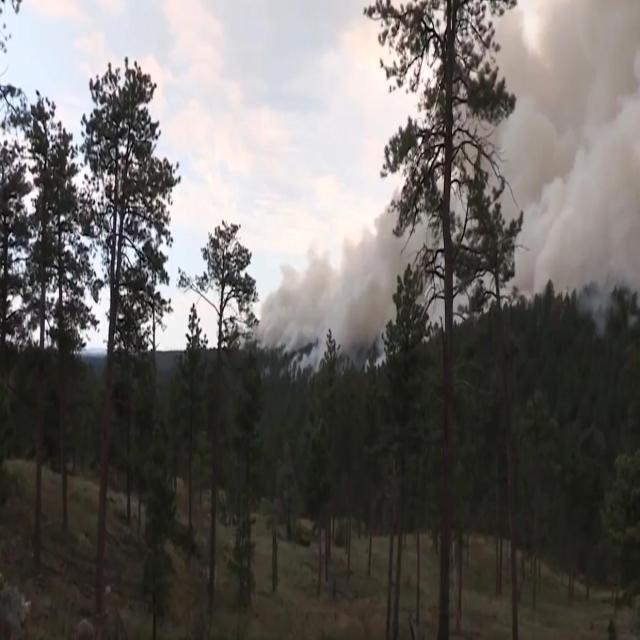Smoke: (518, 44, 634, 313), (268, 212, 402, 364)
